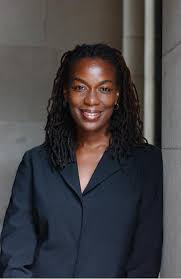black_female: (49, 37, 136, 139)
